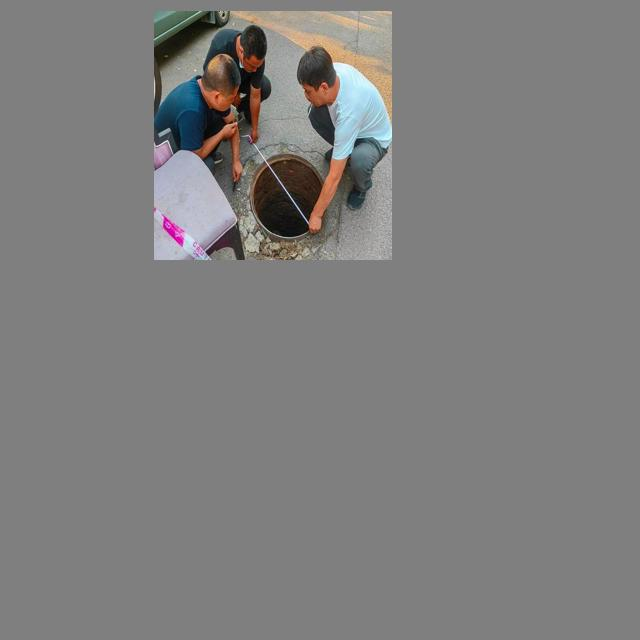lose: (249, 149, 329, 241)
